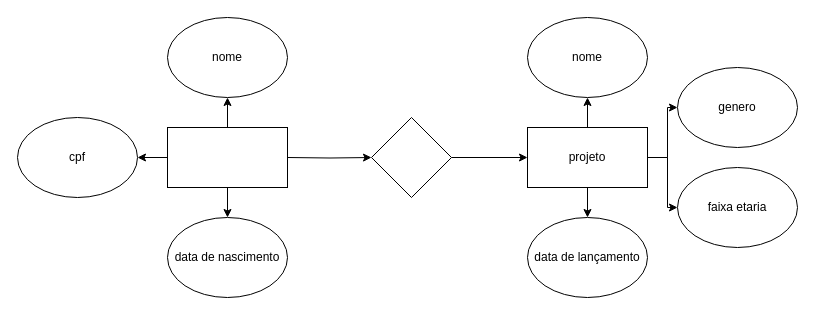
This 815x315 diagram has some shape labels left out. Each missing label, with the box of its shape:
desenvolvedor: (166, 126, 288, 188)
possui: (370, 116, 452, 198)
